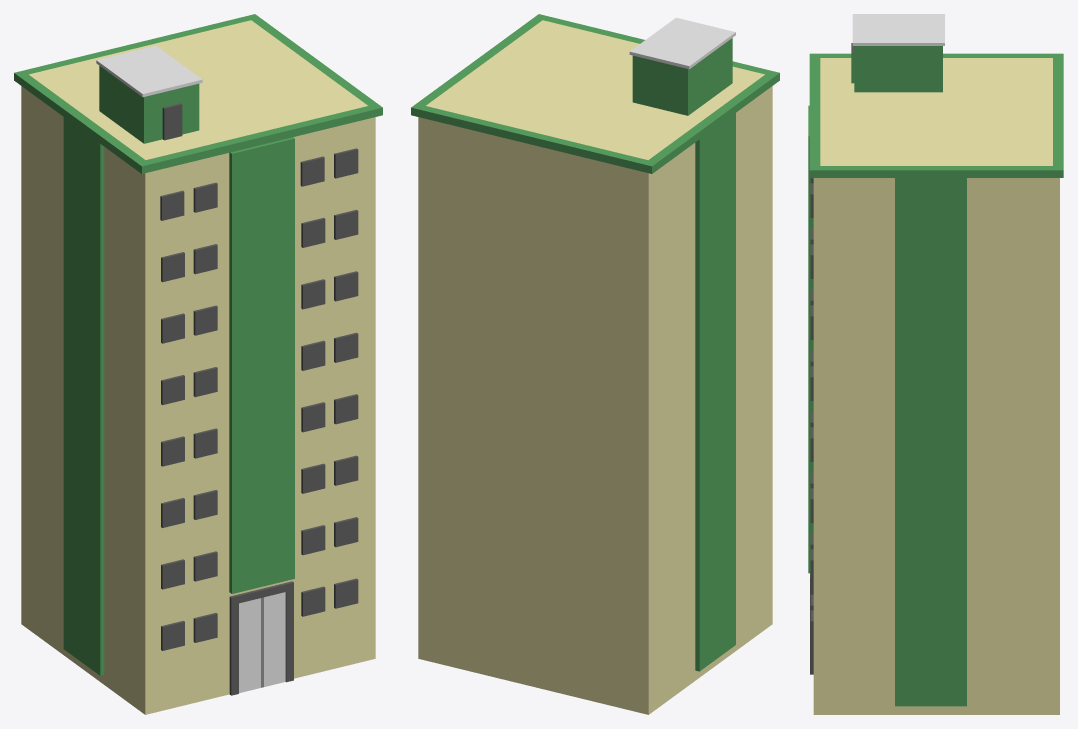
File: Building_2.FBX
3 views of the same model, side by side, from view 1: azimuth 30°, elevation 25°; view 2: azimuth 150°, elevation 25°; view 3: azimuth 270°, elevation 25° (orthographic).
Parts seen in each view (by area): view 1: Building 02; view 2: Building 02; view 3: Building 02.
Part boxes in pixels (<box>): Building 02: <box>14,14,382,714</box>; Building 02: <box>411,14,779,714</box>; Building 02: <box>808,14,1063,714</box>.
Size of the model in its own units: 9.71 by 23.17 by 8.96.
1 material, 1 textured.
